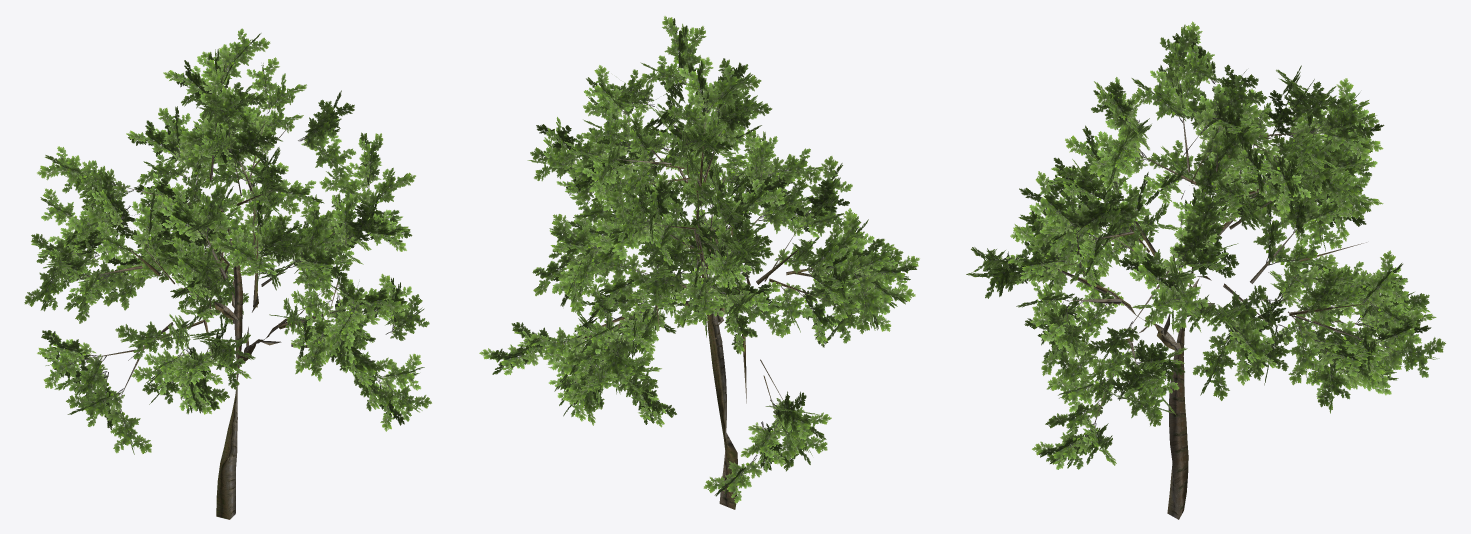
Rendered from tree_02_medium.glb.
The picture shows the model from 3 angles, left to right: view 1: azimuth 30°, elevation 25°; view 2: azimuth 150°, elevation 25°; view 3: azimuth 270°, elevation 25°; orthographic projection. The views are drawn at different scales.
Parts seen in each view (by area): view 1: tree_02; view 2: tree_02; view 3: tree_02.
Part boxes in pixels (x1=…): tree_02: x1=24, y1=28, x2=431, y2=519; tree_02: x1=479, y1=16, x2=919, y2=509; tree_02: x1=966, y1=21, x2=1445, y2=519.
Size of the model in its own units: 11.63 by 12.99 by 11.82.
Materials: 2 (2 with a texture image).
